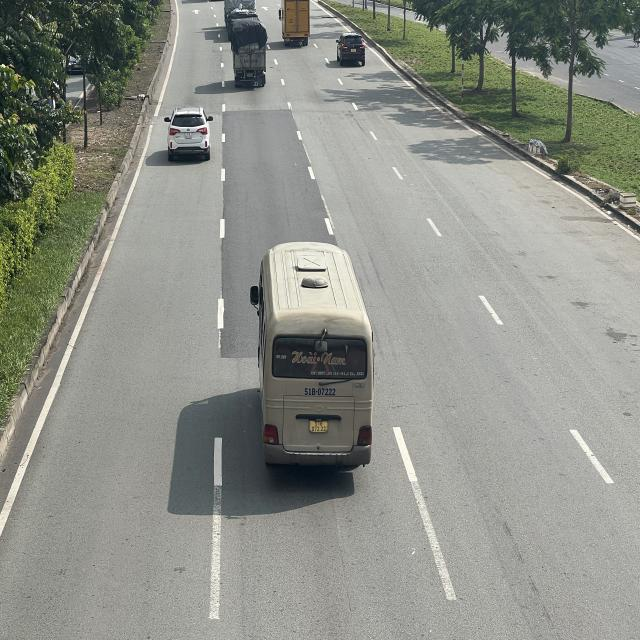car: (167, 107, 214, 161), (335, 31, 367, 65)
coach: (247, 240, 372, 469)
truck: (232, 16, 268, 85), (279, 0, 311, 47)
